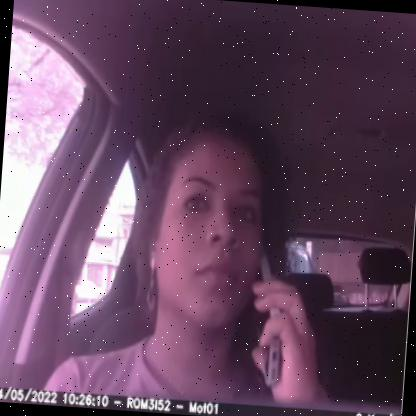phone: (241, 235, 301, 392)
